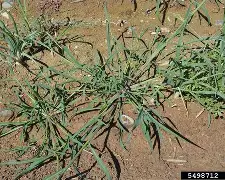weed: (0, 1, 224, 178)
